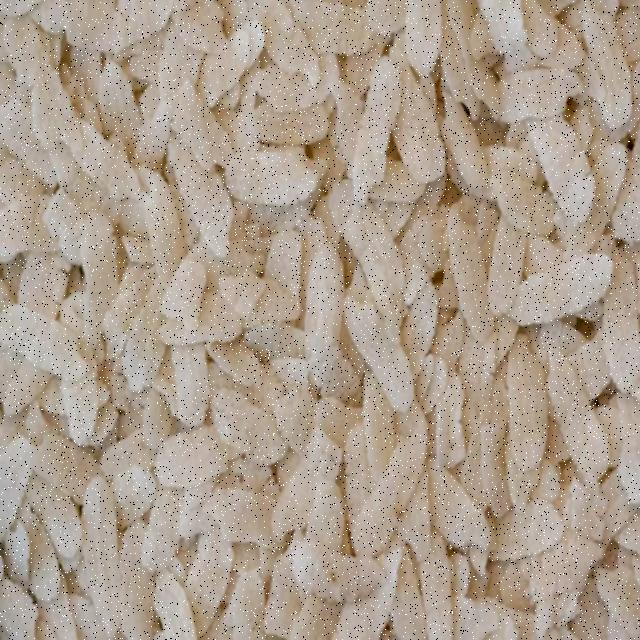Beaten Rice: (47, 79, 580, 562)
